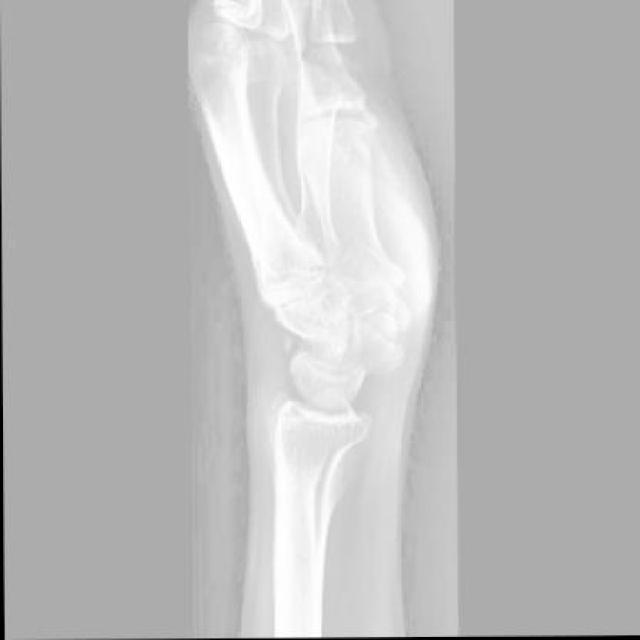Fracture: (278, 325, 308, 362)
